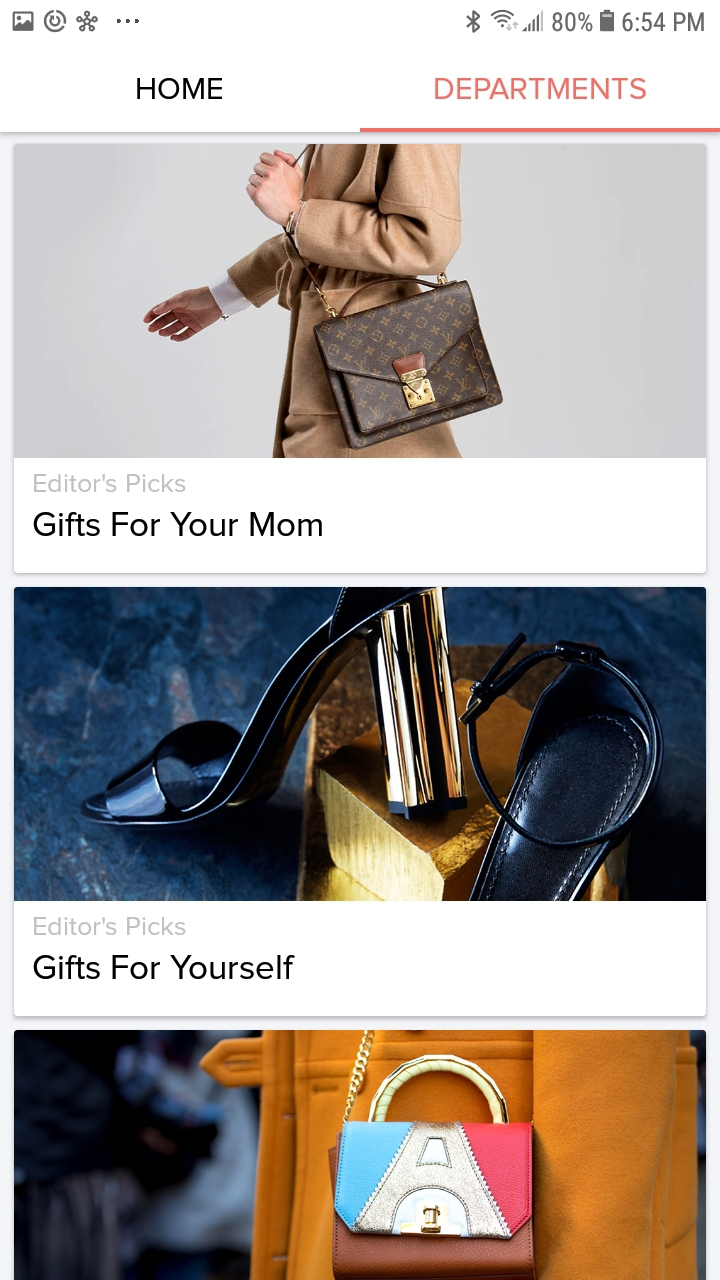Image: (13, 143, 707, 459), (14, 587, 706, 901), (14, 1030, 706, 1280)
Text: (34, 512, 323, 538), (34, 954, 296, 980), (435, 78, 647, 101), (34, 473, 187, 493), (35, 917, 187, 936), (137, 78, 223, 101)
UpperTaskBar: (2, 1, 720, 35)
